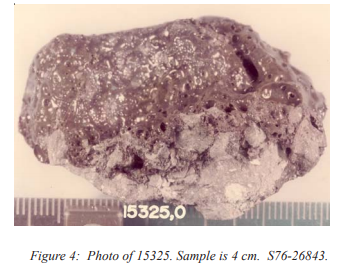Breccia: (25, 19, 309, 198), (208, 23, 324, 195), (94, 63, 242, 158)
